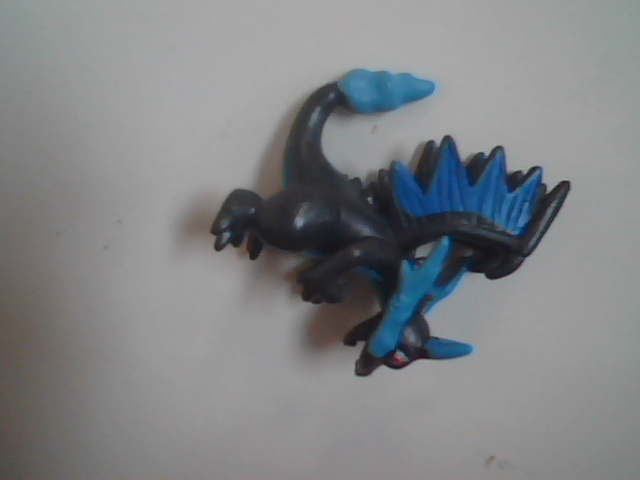charizard: (207, 39, 580, 407)
